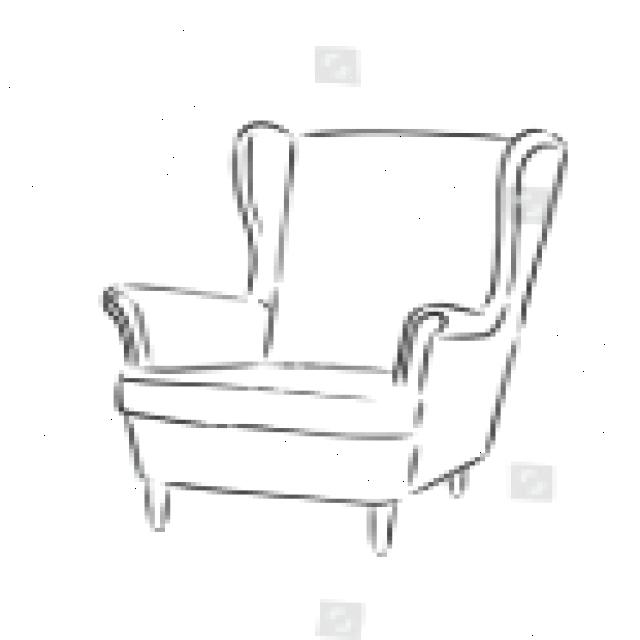Leg_Structure: (137, 460, 470, 561)
Seat: (114, 362, 417, 434)
Wing_Flange: (486, 124, 572, 307), (230, 120, 298, 317)
sofa_armrest: (391, 300, 527, 500), (98, 281, 273, 365)
